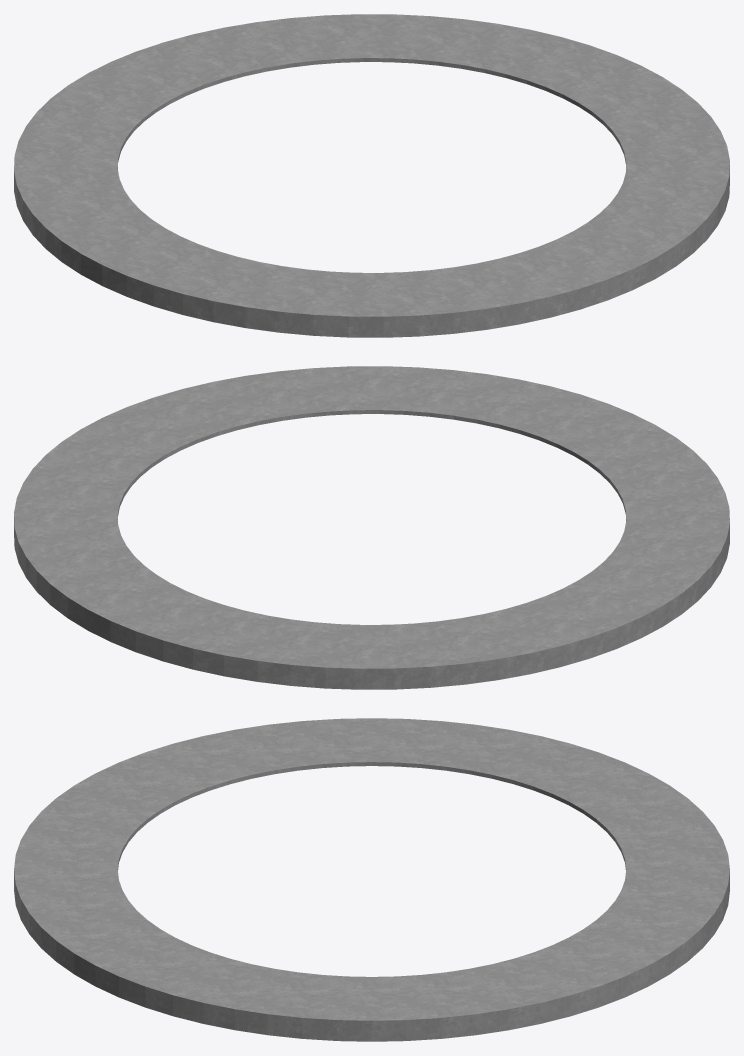
The model's file is Roof.glb.
3 views of the same model, one above another, from view 1: azimuth 30°, elevation 25°; view 2: azimuth 150°, elevation 25°; view 3: azimuth 270°, elevation 25° (orthographic).
Parts seen in each view (by area): view 1: Roof; view 2: Roof; view 3: Roof.
Part boxes in pixels (x1,y1,x2,y2): Roof: (14,14,729,337); Roof: (14,366,729,689); Roof: (14,718,729,1041).
Bounding box in the file's own units: 163 × 5.3 × 163.
2 materials, 1 textured.
